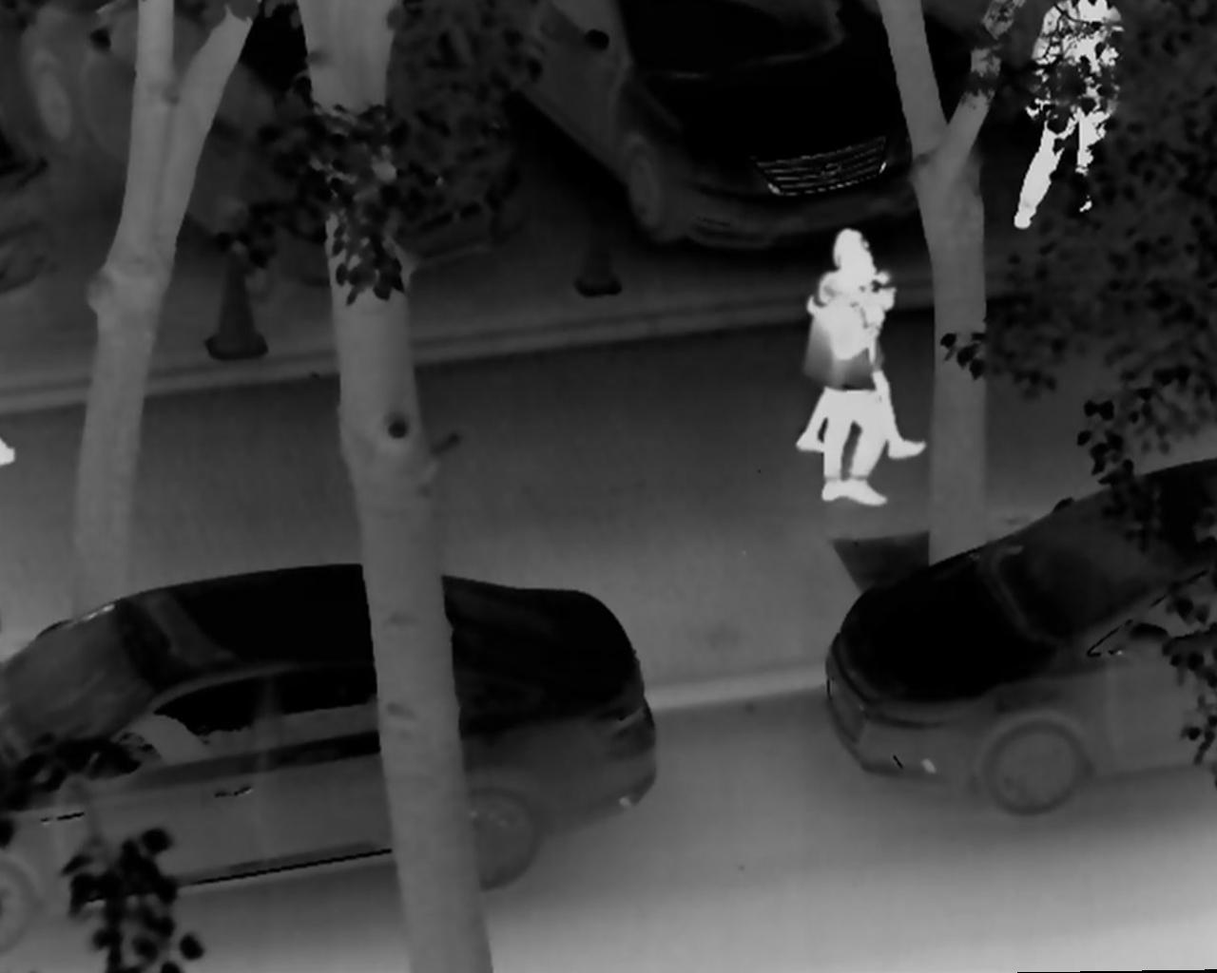person: (795, 226, 925, 460), (810, 245, 894, 506)
